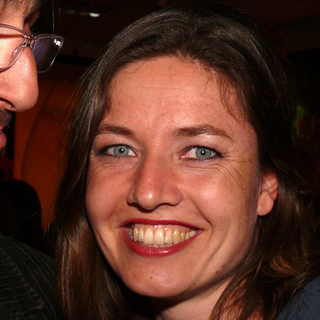eye: (176, 140, 225, 165), (96, 139, 140, 163)
